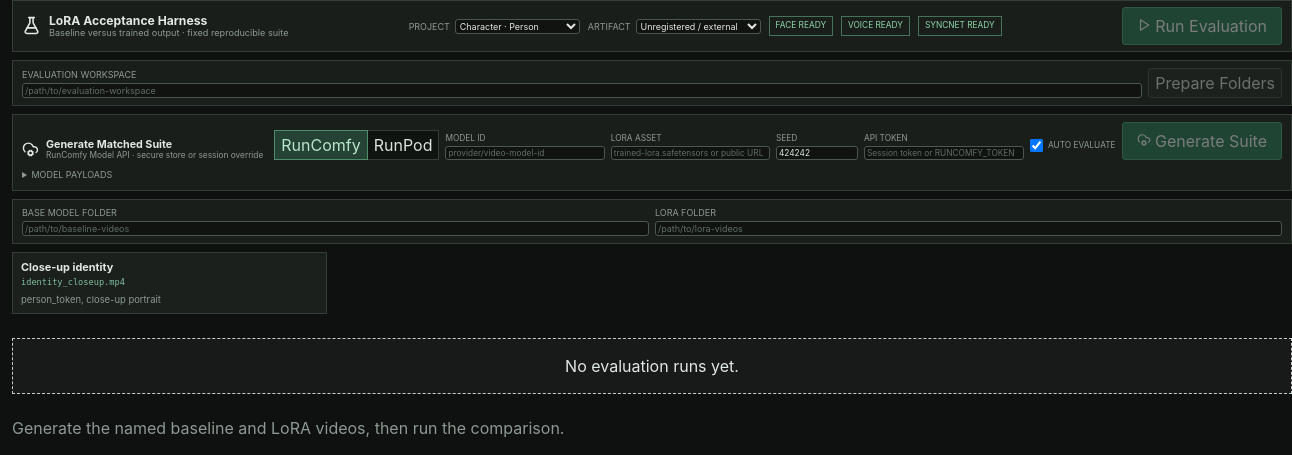
EvaluationHarness › prepares matched baseline and LoRA folders before generation
In the field named "Evaluation workspace folder": {"x": 582, "y": 90} [22, 83, 1142, 98], type "/tmp/evaluation"
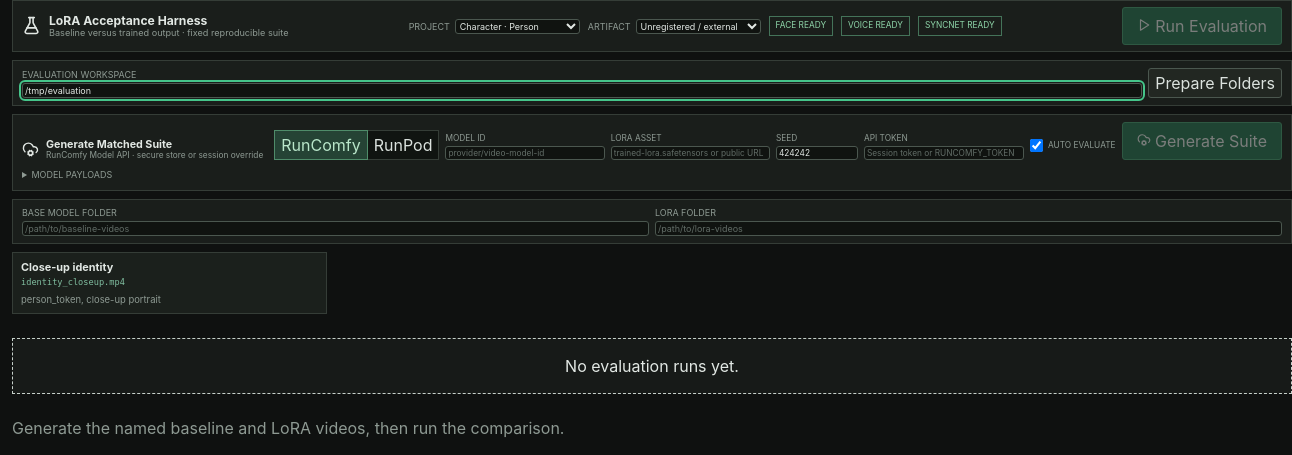
Click the button "Prepare Folders": {"x": 1215, "y": 83} [1148, 68, 1282, 98]
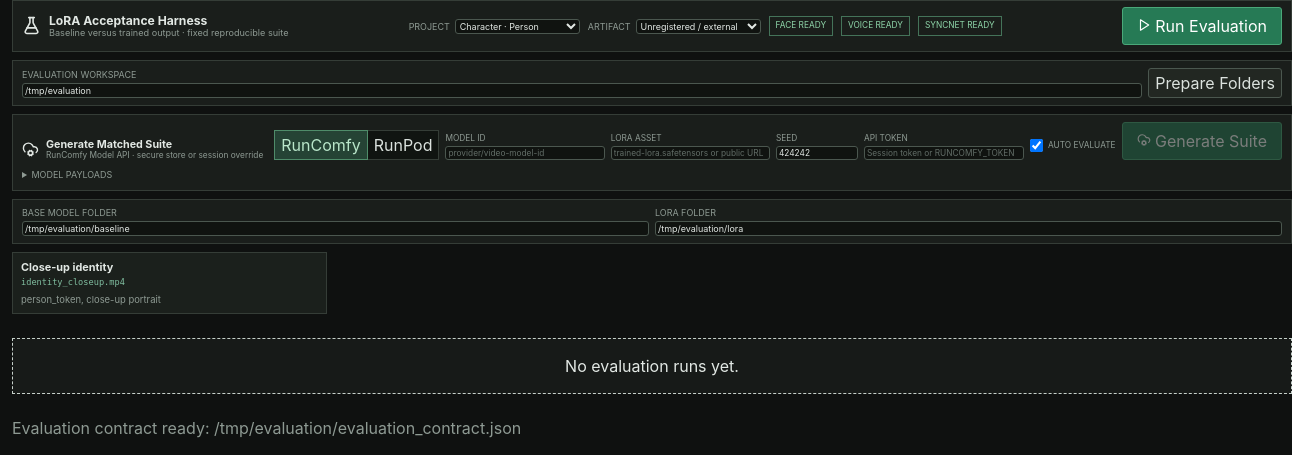
Check: the field named "Baseline video folder" holds "/tmp/evaluation/baseline", box [22, 221, 649, 236]
Check: the field named "LoRA video folder" holds "/tmp/evaluation/lora", box [655, 221, 1282, 236]
Check: the text "evaluation_contract.json" is shown, box [12, 418, 521, 438]
